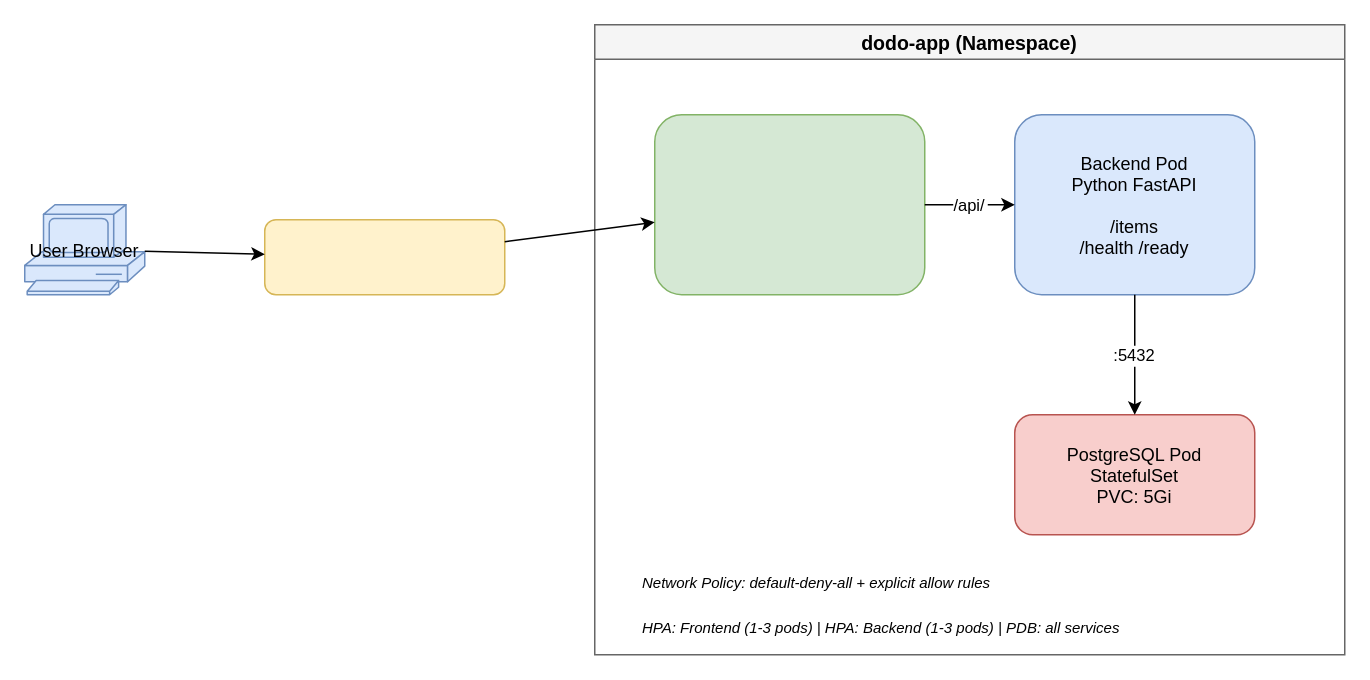
This 1370x680 diagram has some shape labels left out. Each missing label, with the box of its shape:
Frontend Pod Nginx / → serves React UI /api/ → proxy to backend: (653, 113, 925, 295)
Ingress Controller dodo-app.local:80: (263, 218, 505, 295)
